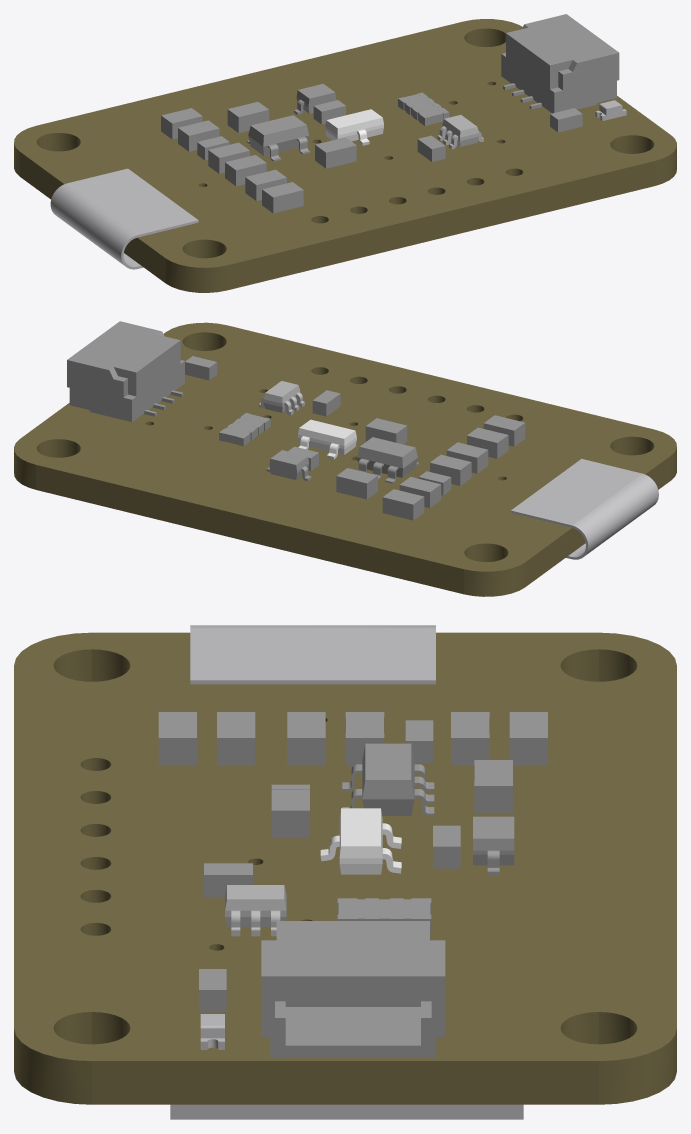
Rendered from ada-4440.glb.
The picture shows the model from 3 angles, top to bottom: view 1: azimuth 30°, elevation 25°; view 2: azimuth 150°, elevation 25°; view 3: azimuth 270°, elevation 25°; orthographic projection. The views are drawn at different scales.
Parts seen in each view (by area): view 1: 0.16666666666666666_0.16666666666666666_0.08333333333333333_, 0.3333333333333333_0.3333333333333333_0.3333333333333333_0, 0.5833333333333334_0.5833333333333334_0.5833333333333334_0.8, 0.9166666666666666_0.9166666666666666_0.9166666666666666_0.8, 0.5_0.5_0.5_0.85; view 2: 0.16666666666666666_0.16666666666666666_0.08333333333333333_, 0.3333333333333333_0.3333333333333333_0.3333333333333333_0, 0.5833333333333334_0.5833333333333334_0.5833333333333334_0.8, 0.9166666666666666_0.9166666666666666_0.9166666666666666_0.8, 0.5_0.5_0.5_0.85; view 3: 0.16666666666666666_0.16666666666666666_0.08333333333333333_, 0.3333333333333333_0.3333333333333333_0.3333333333333333_0, 0.5833333333333334_0.5833333333333334_0.5833333333333334_0.8, 0.9166666666666666_0.9166666666666666_0.9166666666666666_0.8, 0.5_0.5_0.5_0.85.
Part boxes in pixels (box(x1,y1,x2,y2)): 0.16666666666666666_0.16666666666666666_0.08333333333333333_: box(14, 19, 676, 292); 0.3333333333333333_0.3333333333333333_0.3333333333333333_0: box(161, 14, 619, 213); 0.5833333333333334_0.5833333333333334_0.5833333333333334_0.8: box(50, 100, 626, 269); 0.9166666666666666_0.9166666666666666_0.9166666666666666_0.8: box(325, 109, 383, 145); 0.5_0.5_0.5_0.85: box(437, 115, 483, 149); 0.16666666666666666_0.16666666666666666_0.08333333333333333_: box(14, 322, 676, 596); 0.3333333333333333_0.3333333333333333_0.3333333333333333_0: box(67, 321, 525, 520); 0.5833333333333334_0.5833333333333334_0.5833333333333334_0.8: box(511, 458, 658, 559); 0.9166666666666666_0.9166666666666666_0.9166666666666666_0.8: box(298, 419, 356, 459); 0.5_0.5_0.5_0.85: box(258, 381, 304, 415); 0.16666666666666666_0.16666666666666666_0.08333333333333333_: box(14, 632, 676, 1104); 0.3333333333333333_0.3333333333333333_0.3333333333333333_0: box(158, 712, 547, 1058); 0.5833333333333334_0.5833333333333334_0.5833333333333334_0.8: box(170, 625, 523, 1119); 0.9166666666666666_0.9166666666666666_0.9166666666666666_0.8: box(320, 808, 401, 874); 0.5_0.5_0.5_0.85: box(225, 885, 286, 936).
Bounding box in the file's own units: 3.41 × 0.5485 × 2.16.
